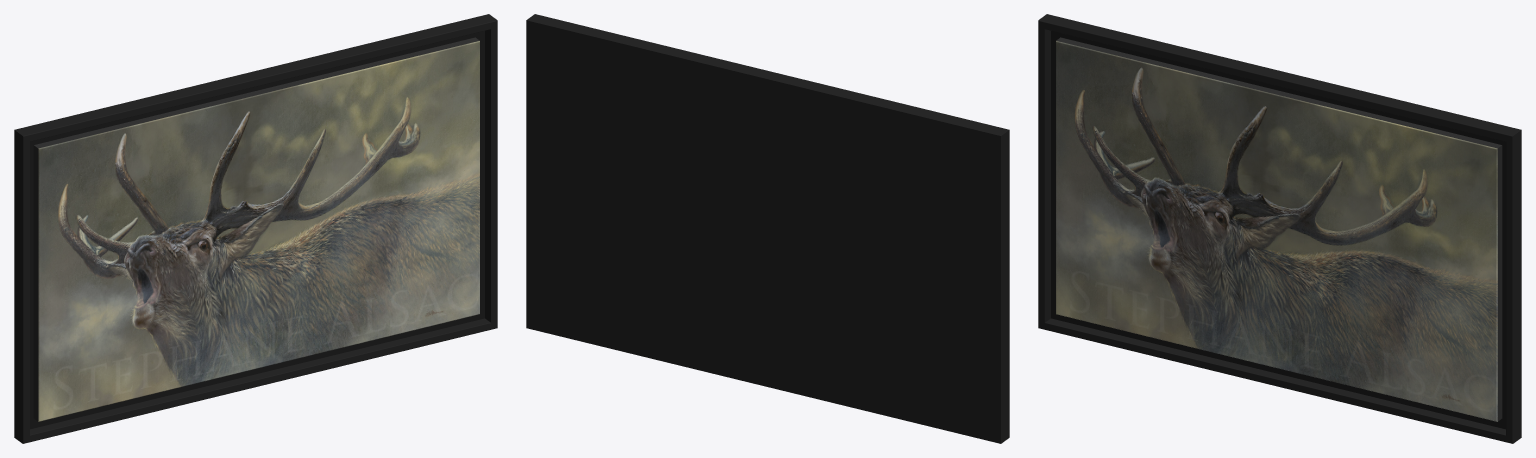
Rendered from peinture-brame-cerf-grand-cccf75f1.glb.
3 views of the same model, side by side, from view 1: azimuth 30°, elevation 25°; view 2: azimuth 150°, elevation 25°; view 3: azimuth 330°, elevation 25° (orthographic).
Parts seen in each view (by area): view 1: Painting; view 2: Painting; view 3: Painting.
Part boxes in pixels (box(x1,y1,x2,y2)): Painting: box(14, 14, 497, 443); Painting: box(526, 14, 1009, 443); Painting: box(1038, 14, 1521, 443).
Bounding box in the file's own units: 1.24 × 0.766 × 0.04.
4 materials, 2 textured.
